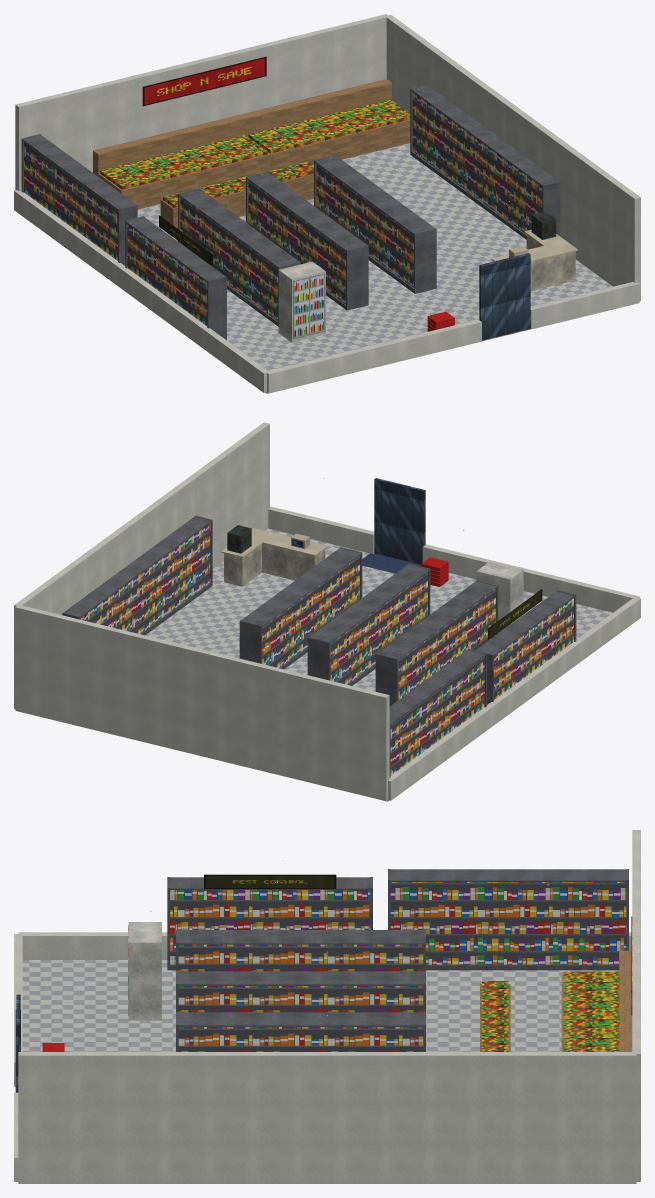
Rendered from Supermarket.fbx.
3 views of the same model, one above another, from view 1: azimuth 30°, elevation 25°; view 2: azimuth 150°, elevation 25°; view 3: azimuth 270°, elevation 25° (orthographic). The views are drawn at different scales.
Parts seen in each view (by area): view 1: Shop_Floor, Shop_WallN, Shop_WallE, Shop_ShelfEast, Shop_VegBin0, Shop_VegBin1, Shop_Shelf2, Shop_Shelf1, Shop_WallS, Shop_ShelfWestTop, Shop_Shelf0, Shop_WallW (+7 smaller); view 2: Shop_WallN, Shop_WallE, Shop_ShelfEast, Shop_Floor, Shop_Shelf1, Shop_Shelf2, Shop_Shelf0, Shop_ShelfWestTop, Shop_WallW, Shop_WallS, Shop_ShelfPest, Shop_Till (+5 smaller); view 3: Shop_WallE, Shop_ShelfWestTop, Shop_Floor, Shop_Shelf0, Shop_Shelf1, Shop_Shelf2, Shop_ShelfPest, Shop_VegBin0, Shop_Freezer, Shop_WallW, Shop_WallN, Shop_VegTable (+2 smaller).
Boxes of the visible parts, x1,y1,x2,y2 form: Shop_Floor: (137,143,612,393); Shop_WallN: (15,14,387,190); Shop_WallE: (385,14,640,301); Shop_ShelfEast: (410,84,560,239); Shop_VegBin0: (93,114,269,209); Shop_VegBin1: (242,79,410,170); Shop_Shelf2: (314,155,436,293); Shop_Shelf1: (246,171,368,310); Shop_WallS: (265,282,639,393); Shop_ShelfWestTop: (21,134,137,265); Shop_Shelf0: (178,188,300,326); Shop_WallW: (14,190,267,392); Shop_WallN: (15,605,389,800); Shop_WallE: (14,422,269,708); Shop_ShelfEast: (62,515,212,635); Shop_Floor: (145,528,612,801); Shop_Shelf1: (307,563,430,685); Shop_Shelf2: (239,547,362,669); Shop_Shelf0: (375,580,498,706); Shop_ShelfWestTop: (389,649,486,777); Shop_WallW: (388,597,640,800); Shop_WallS: (268,506,639,612); Shop_ShelfPest: (475,590,576,704); Shop_Till: (221,525,327,586); Shop_WallE: (18,1052,636,1183); Shop_ShelfWestTop: (388,869,628,970); Shop_Floor: (22,960,618,1051); Shop_Shelf0: (176,929,425,971); Shop_Shelf1: (176,970,425,1012); Shop_Shelf2: (176,1012,425,1051); Shop_ShelfPest: (167,877,372,970); Shop_VegBin0: (561,950,632,1051); Shop_Freezer: (128,922,161,1020); Shop_WallW: (18,932,631,959); Shop_WallN: (632,830,640,1181); Shop_VegTable: (480,981,510,1051).
Bounding box in the file's own units: 12.2 × 3.25 × 14.2.
